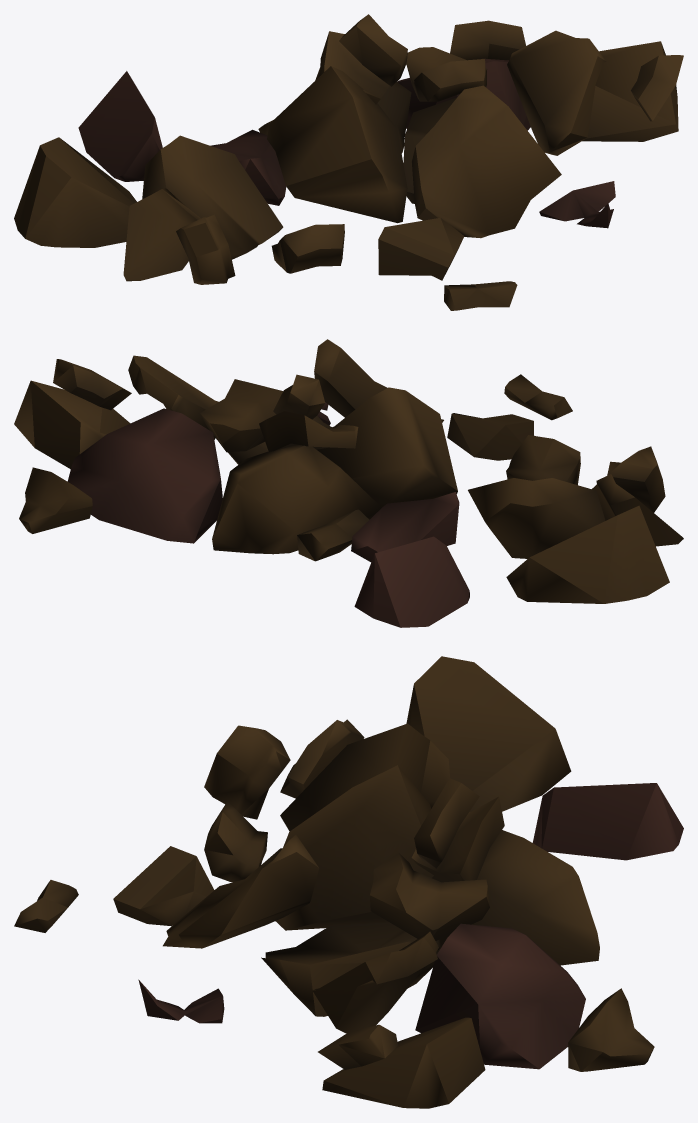
Rendered from pq_urne_brisee.glb.
3 views of the same model, one above another, from view 1: azimuth 30°, elevation 25°; view 2: azimuth 150°, elevation 25°; view 3: azimuth 270°, elevation 25° (orthographic). The views are drawn at different scales.
Visible parts, largest first — view 1: Vase_Rubble_Medium; view 2: Vase_Rubble_Medium; view 3: Vase_Rubble_Medium.
Boxes of the visible parts, bbox=[...] form: Vase_Rubble_Medium: bbox=[14, 14, 683, 310]; Vase_Rubble_Medium: bbox=[14, 339, 683, 627]; Vase_Rubble_Medium: bbox=[14, 656, 683, 1108].
Bounding box in the file's own units: 0.5977 × 0.131 × 0.4488.
